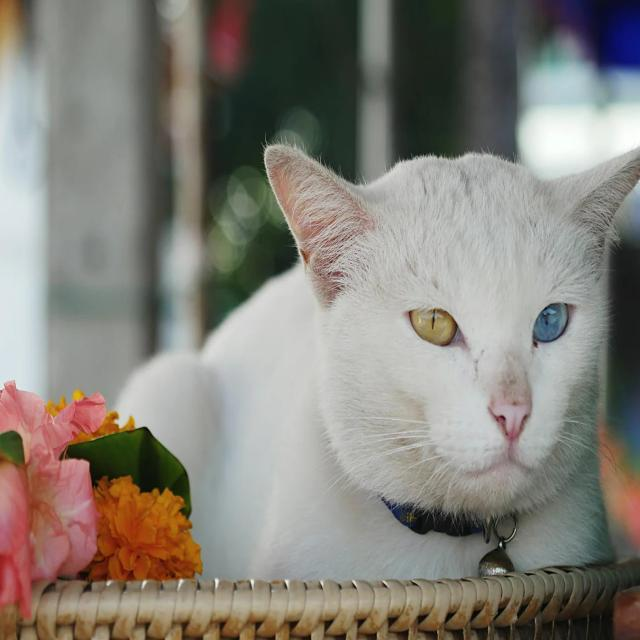Khao Manee: (107, 132, 640, 585)
